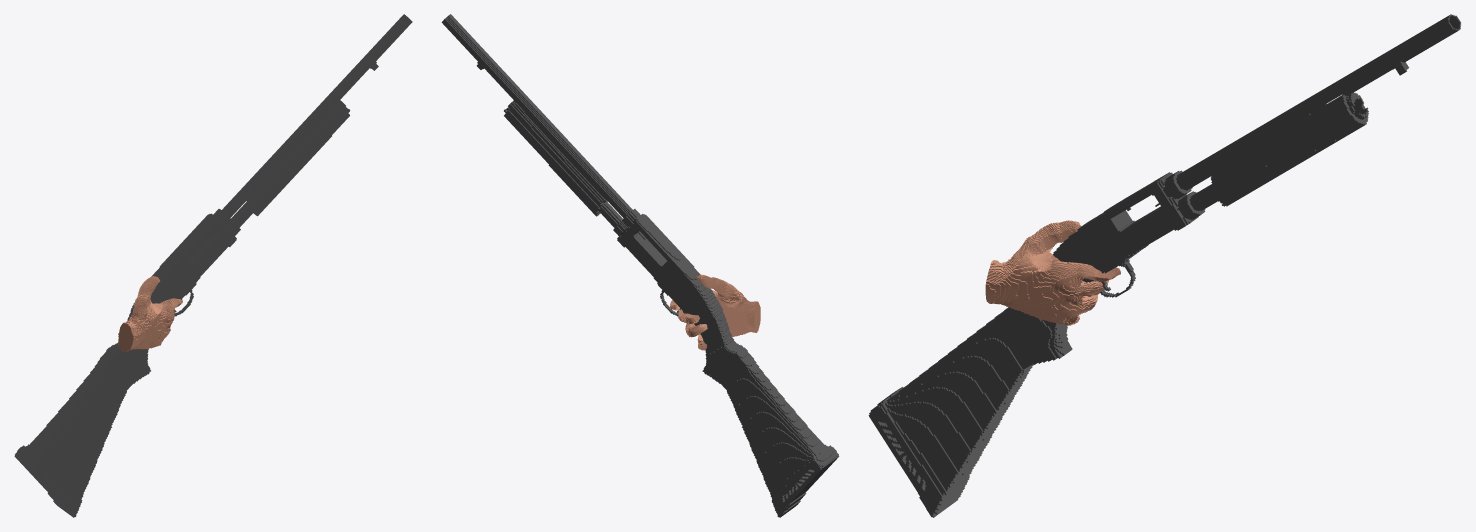
File: voxel shotgun.fbx
3 views of the same model, side by side, from view 1: azimuth 30°, elevation 25°; view 2: azimuth 150°, elevation 25°; view 3: azimuth 330°, elevation 25° (orthographic). The views are drawn at different scales.
Parts seen in each view (by area): view 1: Cube.002, Mano; view 2: Cube.002, Mano; view 3: Cube.002, Mano.
Boxes of the visible parts, x1,y1,x2,y2 form: Cube.002: [14, 14, 412, 517]; Mano: [118, 276, 182, 351]; Cube.002: [441, 14, 839, 517]; Mano: [670, 274, 760, 350]; Cube.002: [868, 14, 1460, 517]; Mano: [985, 220, 1120, 325].
Bounding box in the file's own units: 17681 × 18042 × 2454.
